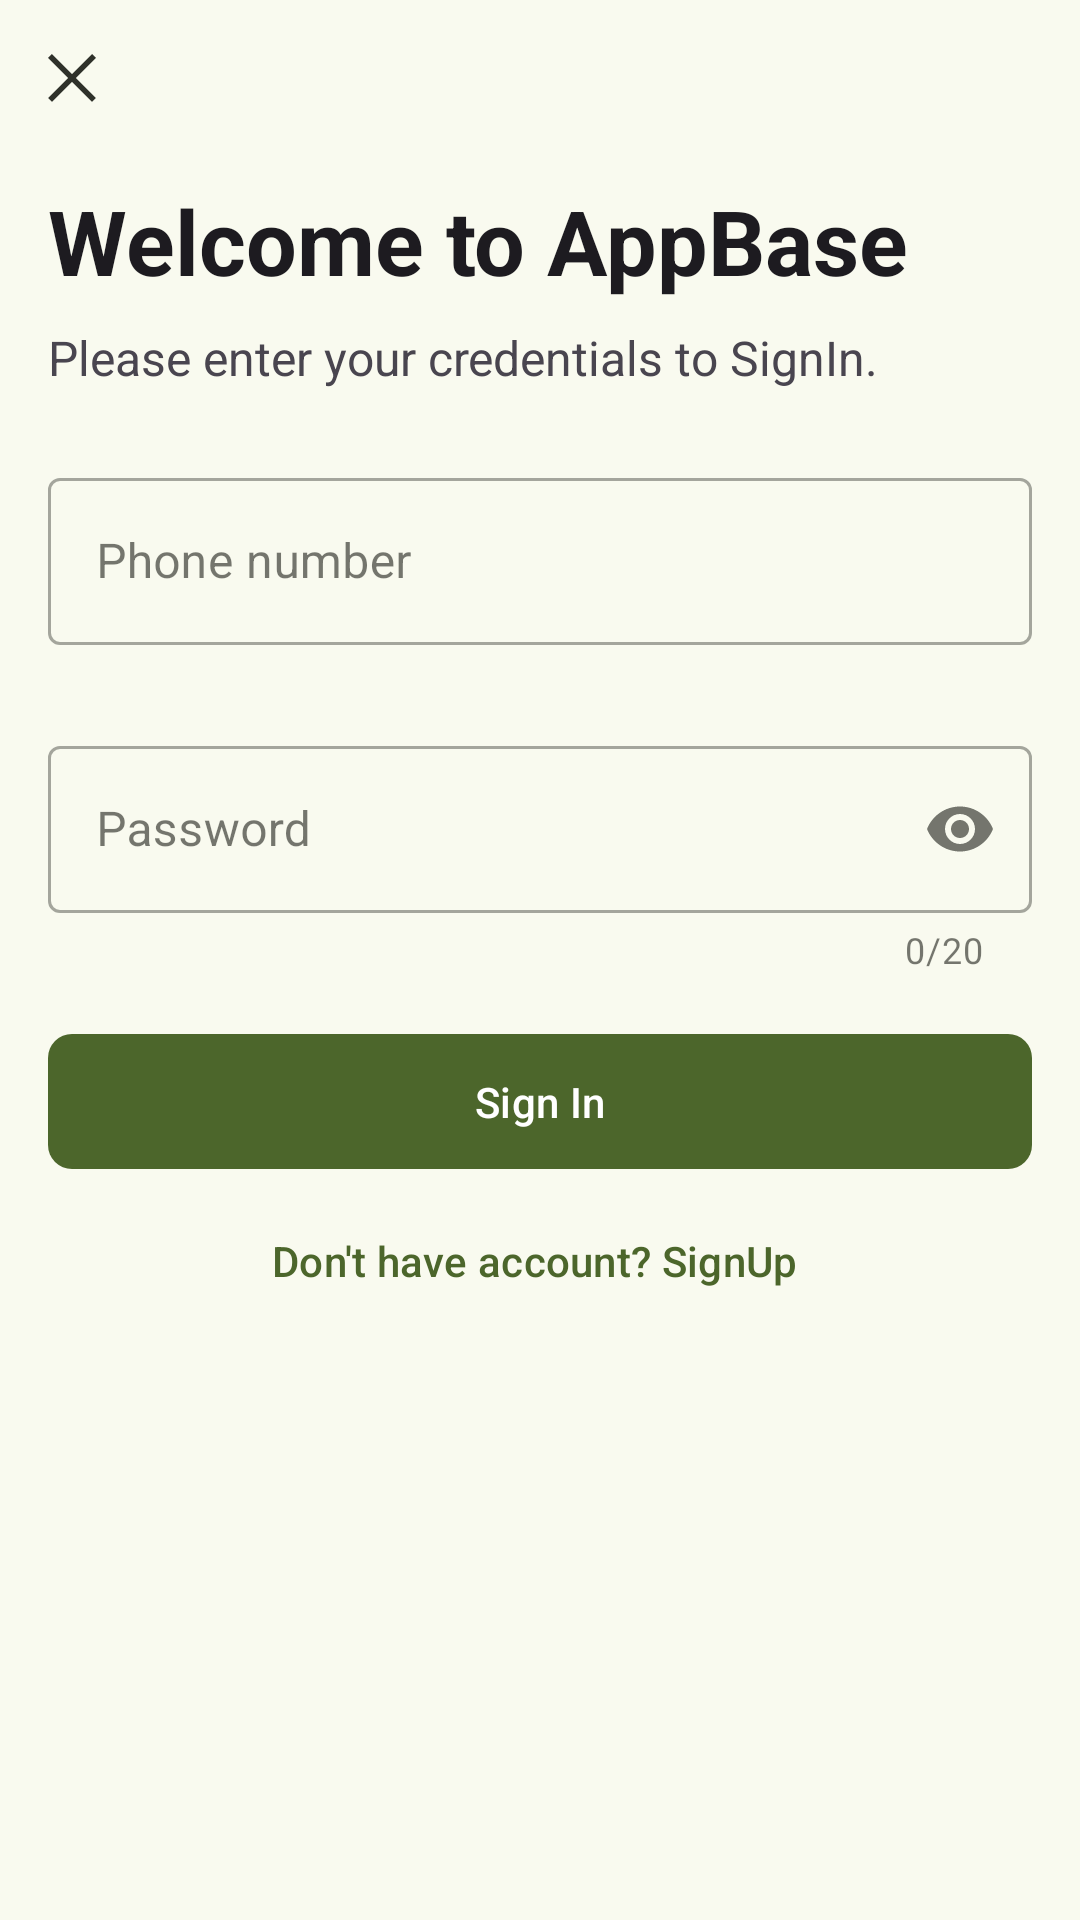

Where to tap for icons on this 1080px×1920px app screen, as (x,y):
close: (72,78)
